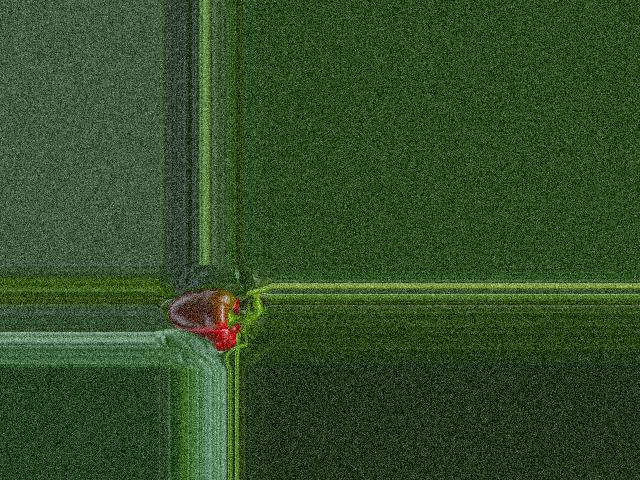bell_pepper: (163, 280, 250, 353)
